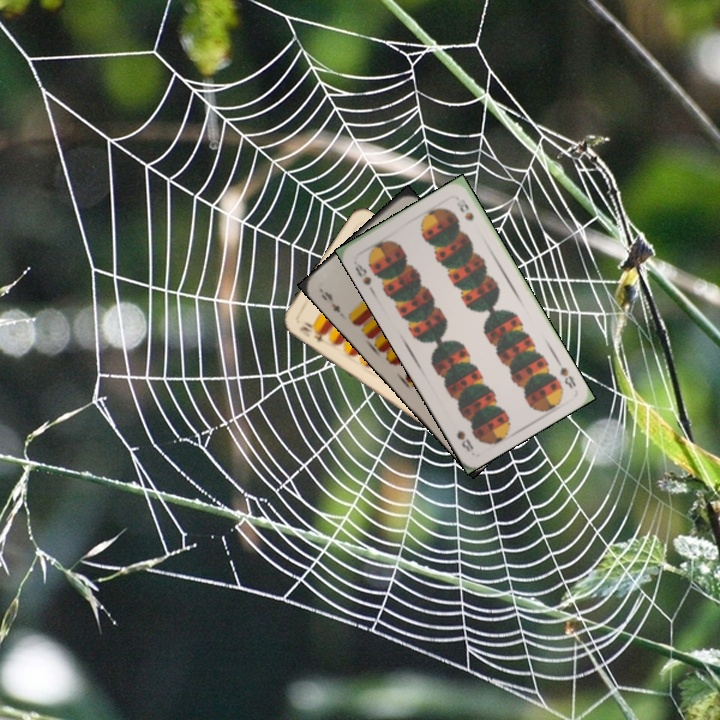E10: (295, 322, 328, 345)
E9: (316, 285, 343, 315)
S8: (552, 355, 579, 391), (351, 259, 374, 288)
